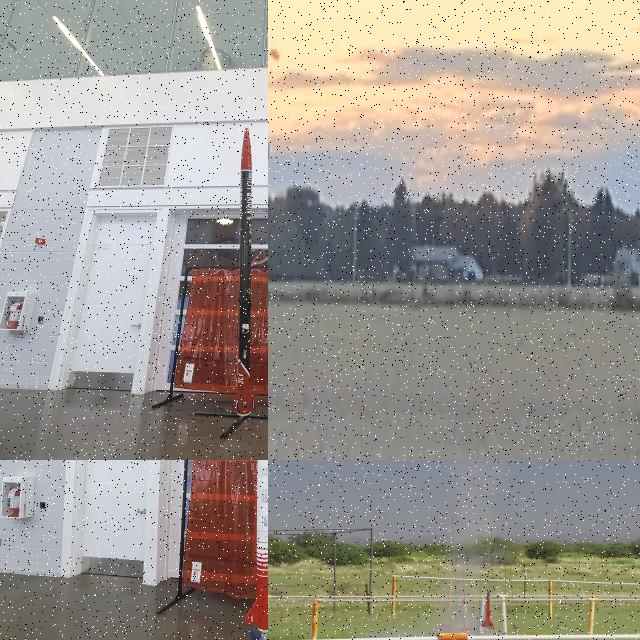Rocket: (232, 122, 258, 415), (245, 460, 268, 630), (268, 140, 270, 161)
